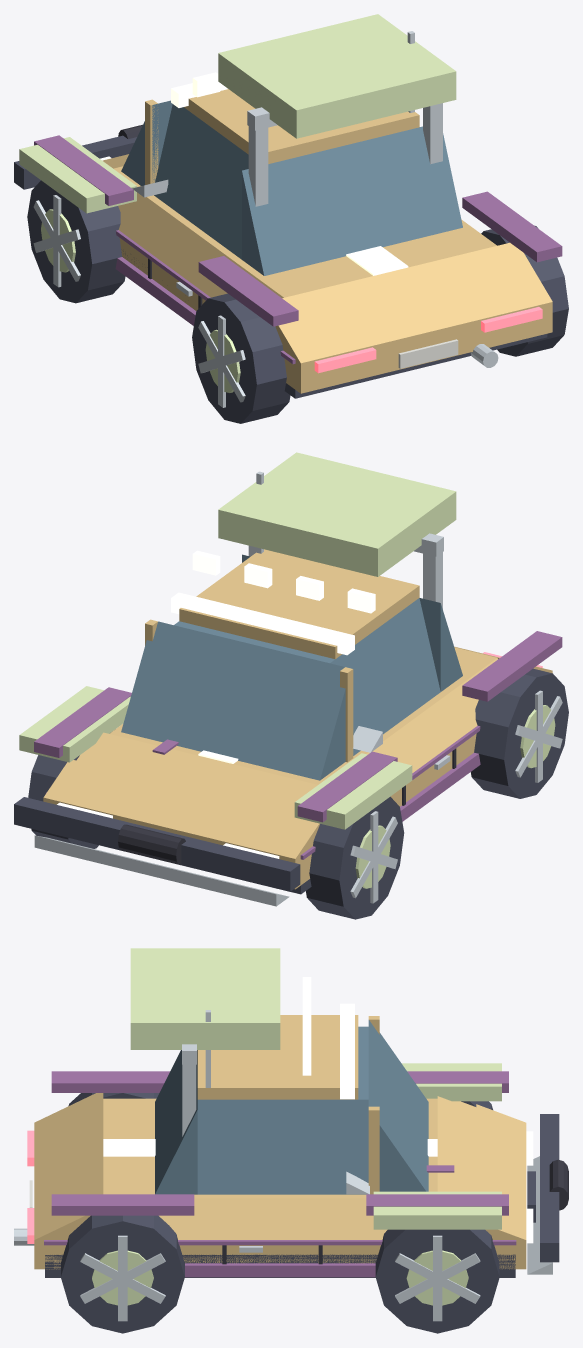
The model's file is badlands_buggy.glb.
3 renders of one model, top to bottom at view 1: azimuth 30°, elevation 25°; view 2: azimuth 150°, elevation 25°; view 3: azimuth 270°, elevation 25°, orthographic. The views are drawn at different scales.
Parts seen in each view (by area): view 1: RearWindow.164, RoofTent.020, Tail.064, CabinSideL.061, Wheel_RL.224, Body.264, Wheel_FL.224, BodyUpper.061, Roof.264, ShoulderL.061, Fender-1.057, Arch1True.140 (+22 smaller); view 2: Windshield.164, RoofTent.020, Nose.061, Roof.264, CabinSideL.061, Wheel_RL.224, BashBar.057, Wheel_FL.224, ShoulderL.061, Bumper.260, Fender-1.057, LightBar.017 (+24 smaller); view 3: CabinSideR.061, RoofTent.020, Roof.264, Nose.061, Wheel_RR.224, ShoulderR.061, Tail.064, Wheel_FR.224, Windshield.164, BodyUpper.061, RearWindow.164, Body.264 (+25 smaller).
Boxes of the visible parts, bbox=[...] form: RearWindow.164: bbox=[242, 126, 462, 275]; RoofTent.020: bbox=[218, 14, 456, 138]; Tail.064: bbox=[275, 242, 552, 363]; CabinSideL.061: bbox=[154, 104, 248, 259]; Wheel_RL.224: bbox=[192, 293, 290, 423]; Body.264: bbox=[119, 238, 552, 393]; Wheel_FL.224: bbox=[27, 180, 125, 303]; BodyUpper.061: bbox=[113, 166, 496, 297]; Roof.264: bbox=[184, 89, 419, 163]; ShoulderL.061: bbox=[118, 192, 283, 298]; Fender-1.057: bbox=[19, 137, 136, 213]; Arch1True.140: bbox=[462, 191, 562, 262]; Windshield.164: bbox=[121, 621, 345, 780]; RoofTent.020: bbox=[218, 452, 456, 576]; Nose.061: bbox=[43, 732, 319, 858]; Roof.264: bbox=[179, 549, 419, 659]; CabinSideL.061: bbox=[330, 598, 440, 755]; Wheel_RL.224: bbox=[470, 668, 568, 798]; BashBar.057: bbox=[14, 797, 300, 891]; Wheel_FL.224: bbox=[306, 796, 404, 919]; ShoulderL.061: bbox=[366, 658, 497, 772]; Bumper.260: bbox=[34, 835, 289, 906]; Fender-1.057: bbox=[294, 753, 412, 829]; LightBar.017: bbox=[171, 592, 354, 655]; CabinSideR.061: bbox=[197, 1099, 368, 1194]; RoofTent.020: bbox=[130, 948, 280, 1049]; Roof.264: bbox=[197, 1015, 358, 1099]; Nose.061: bbox=[437, 1096, 526, 1239]; Wheel_RR.224: bbox=[61, 1215, 184, 1333]; ShoulderR.061: bbox=[159, 1198, 387, 1239]; Tail.064: bbox=[34, 1093, 103, 1239]; Wheel_FR.224: bbox=[375, 1229, 499, 1333]; Windshield.164: bbox=[368, 1020, 428, 1191]; BodyUpper.061: bbox=[103, 1098, 437, 1198]; RearWindow.164: bbox=[155, 1050, 197, 1194]; Body.264: bbox=[34, 1240, 526, 1269].
Bounding box in the file's own units: 3.36 × 2.94 × 5.19.
